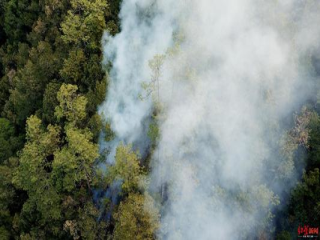smoke: (95, 12, 313, 234)
